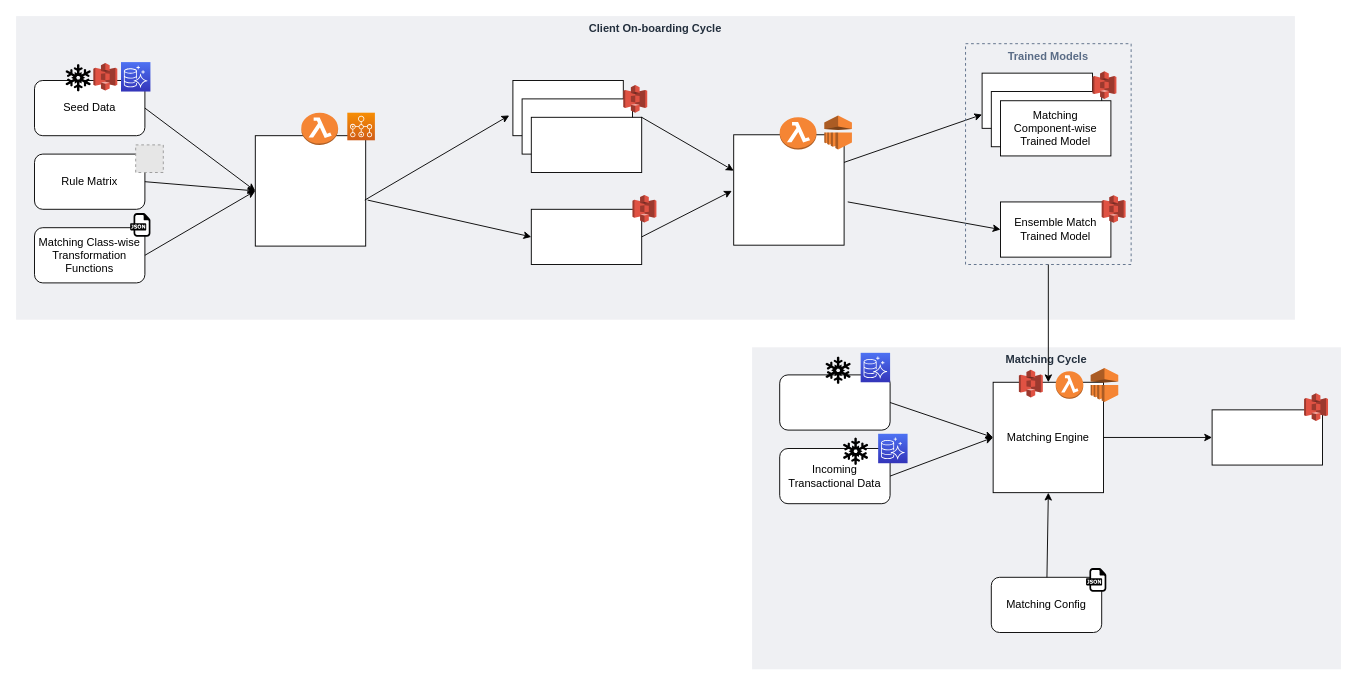
Some shapes in this 1356 by 684 pixel diagram are drawn without their labels. Grey dashed boxes stand in for pictures. Each missing label, with the centre of its shape:
Ensemble Match Training Data: (x=586, y=236)
Master Data: (x=834, y=402)
Matching Component-wise Training Data: (x=586, y=144)
Model Data Generation: (x=310, y=190)
Model Training: (x=788, y=189)
Potential Matching Pairs with Match Probability: (x=1266, y=437)
